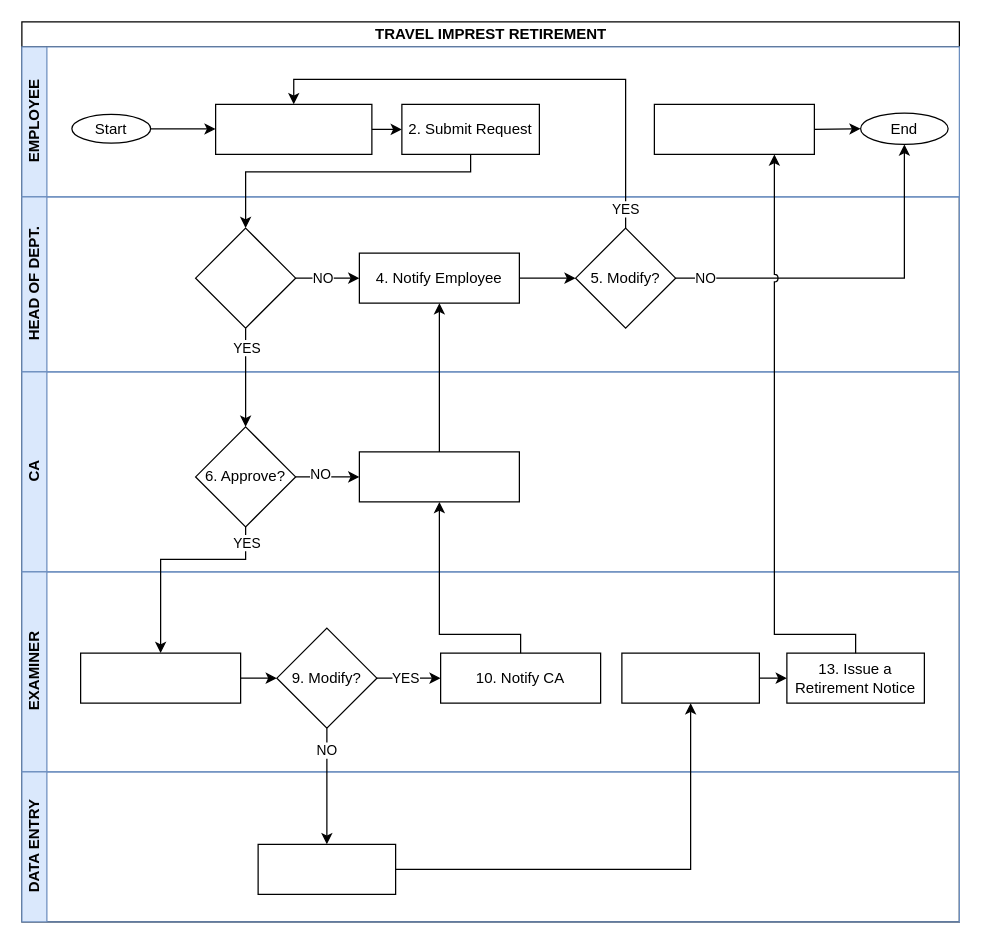
This 981x944 diagram has some shape labels left out. The centre of each missing label's shape, as x and y in pixels:
"1. Fill Request Form/Modify" goes at (x=293, y=128).
"11. Update Tables" goes at (x=326, y=868).
"12. Make Retirement" goes at (x=690, y=677).
"14. Receive Retirement Notice" goes at (x=733, y=128).
"3. Approve?" goes at (x=245, y=277).
"7. Notify Head of Dept" goes at (x=438, y=476).
"8. Preaudit and Verify" goes at (x=160, y=677).
